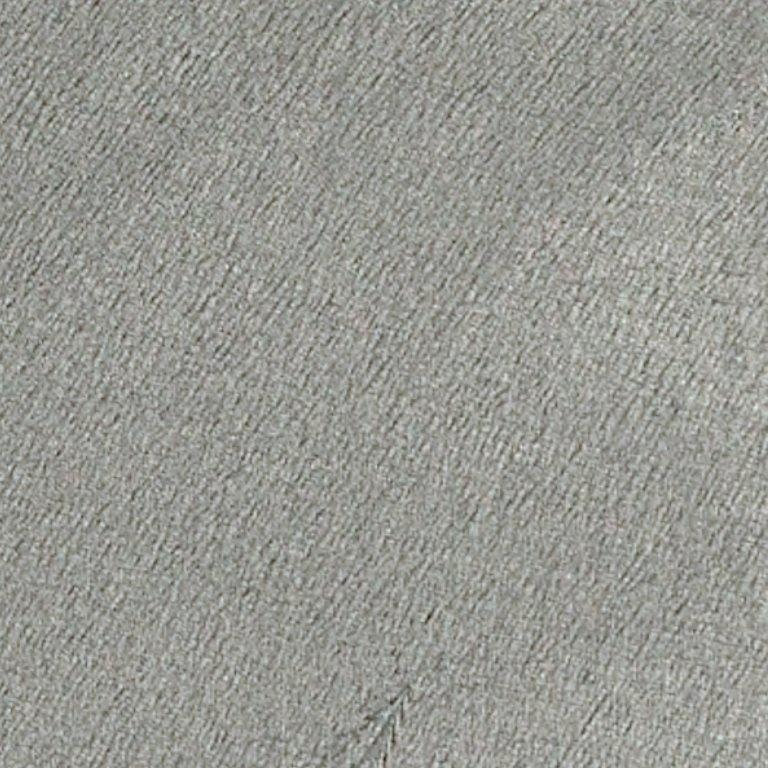ship: (393, 677, 426, 700), (420, 678, 423, 682), (398, 692, 402, 695), (414, 694, 416, 698)
